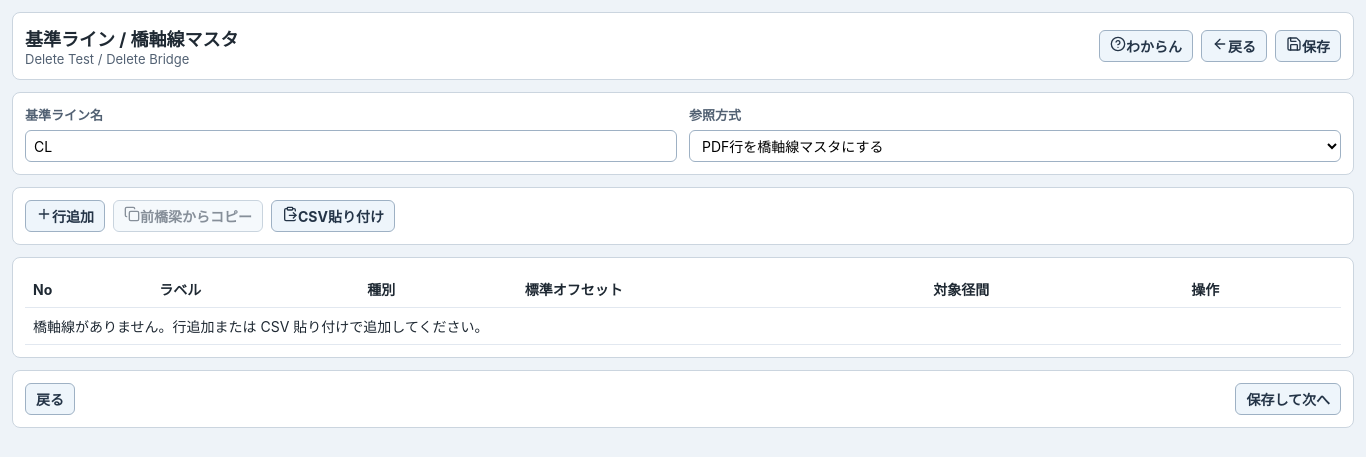
Test: LineMasterPage › removes a row after confirmation
Click the button with test id "line-master-add-row": (65, 216) [25, 200, 105, 232]
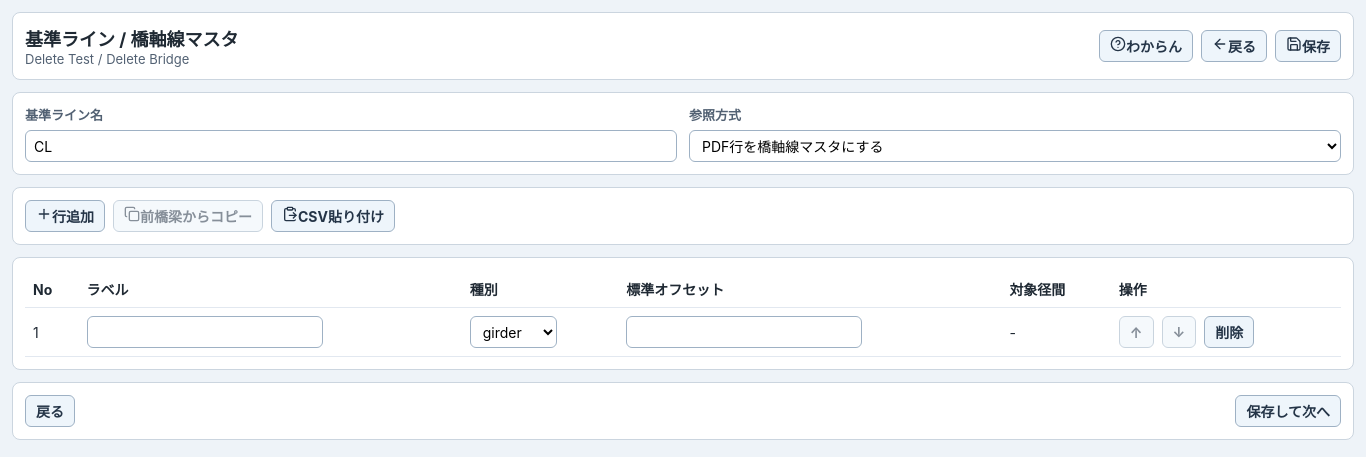
Click the button "削除": (1229, 332) [1204, 316, 1254, 348]
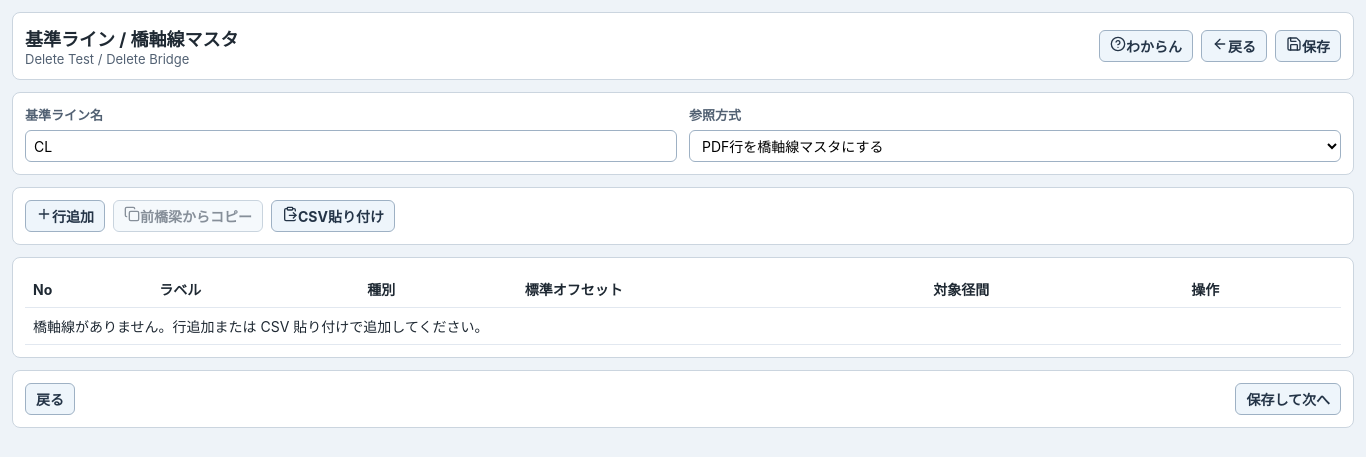
Expected: the row with test id "line-master-empty-row" is shown, [25, 308, 1341, 344]
